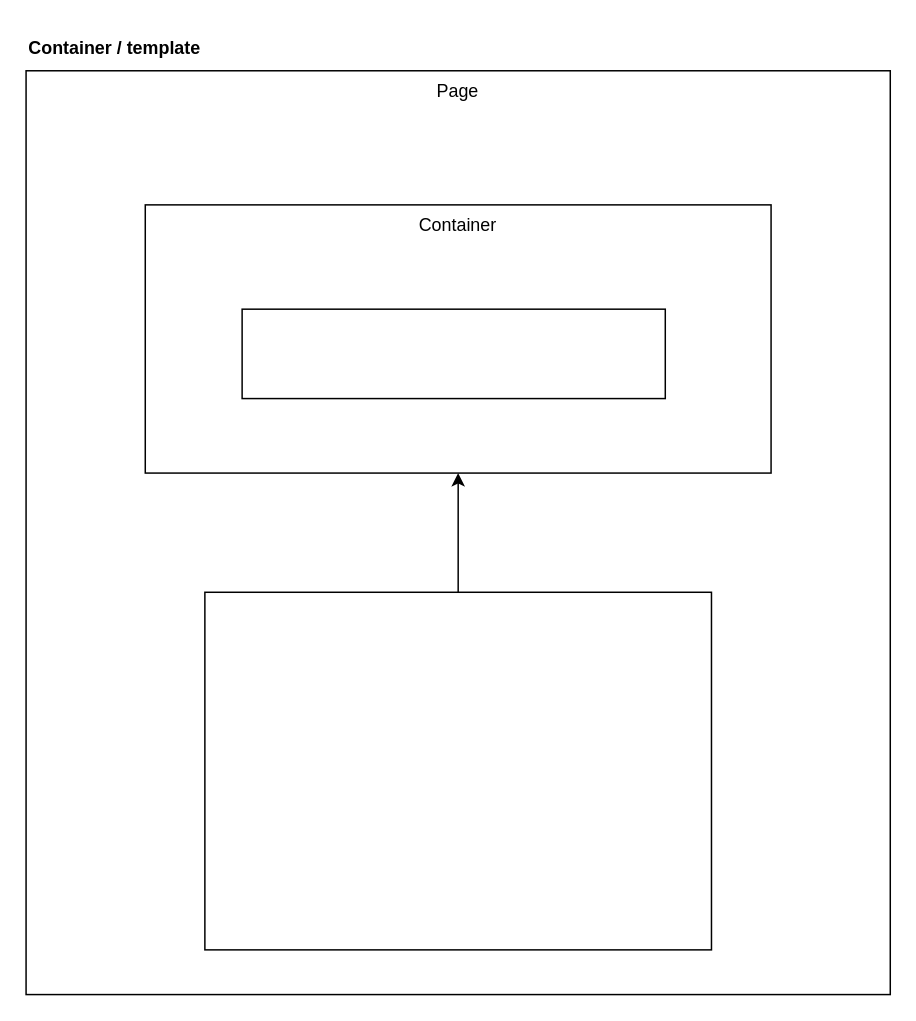
This 916x1021 diagram has some shape labels left out. Each missing label, with the centre of its shape:
"hook" belongs at [453,353].
"template" belongs at [457,770].
